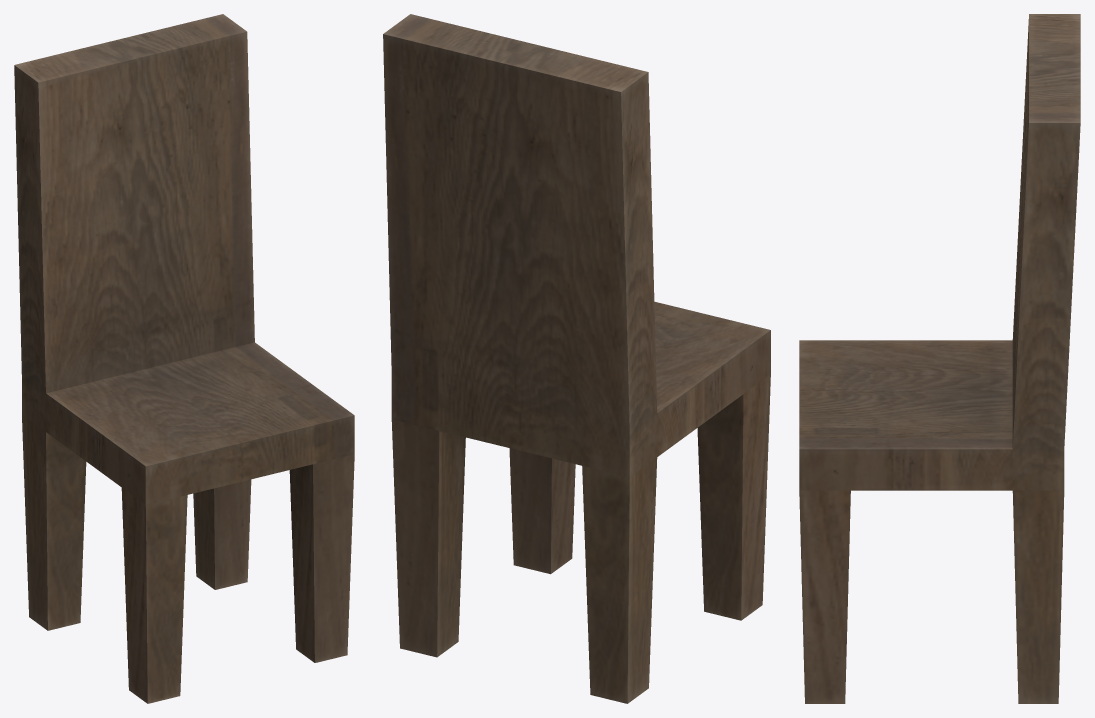
The model's file is Chair.fbx.
3 renders of one model, left to right at view 1: azimuth 30°, elevation 25°; view 2: azimuth 150°, elevation 25°; view 3: azimuth 270°, elevation 25°, orthographic. The views are drawn at different scales.
Visible parts, largest first — view 1: Chair; view 2: Chair; view 3: Chair.
Boxes of the visible parts, <box> form: Chair: <box>14,14,354,703</box>; Chair: <box>383,14,770,703</box>; Chair: <box>799,14,1080,703</box>.
Bounding box in the file's own units: 200 × 499 × 218.
1 material, 1 textured.
